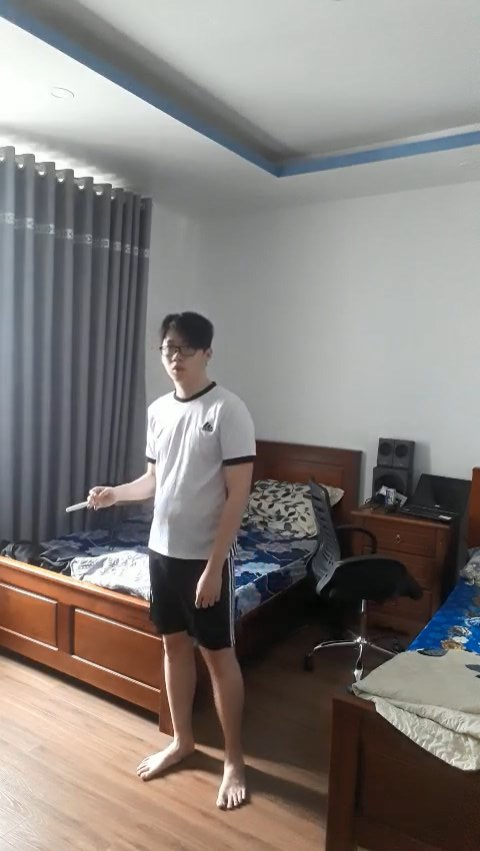cigarette: (62, 502, 90, 513)
person: (102, 301, 266, 827)
